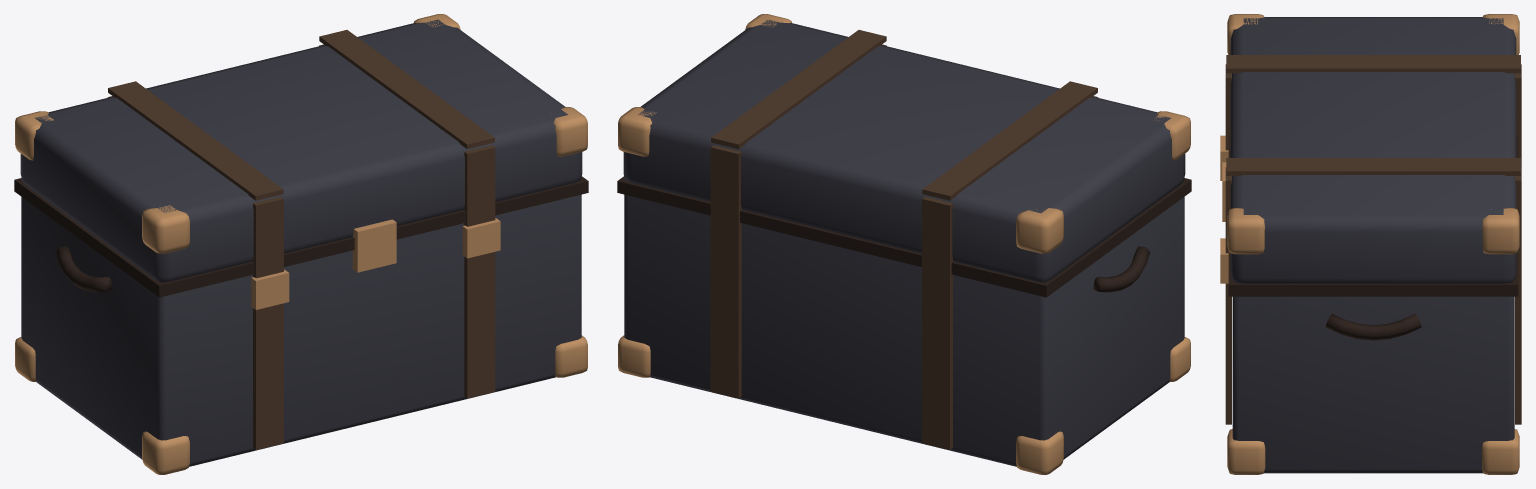
Rendered from trunk.glb.
3 renders of one model, left to right at view 1: azimuth 30°, elevation 25°; view 2: azimuth 150°, elevation 25°; view 3: azimuth 270°, elevation 25°, orthographic.
Visible parts, largest first — view 1: trunk; view 2: trunk; view 3: trunk.
Part boxes in pixels (x1,y1,x2,y2): trunk: (14,14,588,474); trunk: (617,14,1191,474); trunk: (1220,14,1521,474).
Size of the model in its own units: 0.827 by 0.446 by 0.47.
